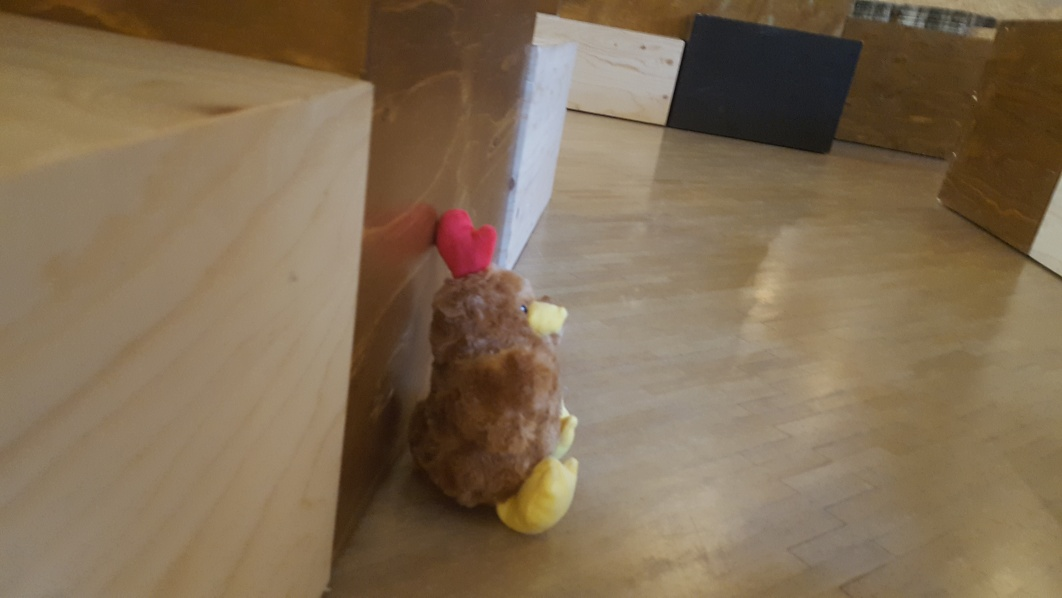chicken: (405, 205, 583, 546)
